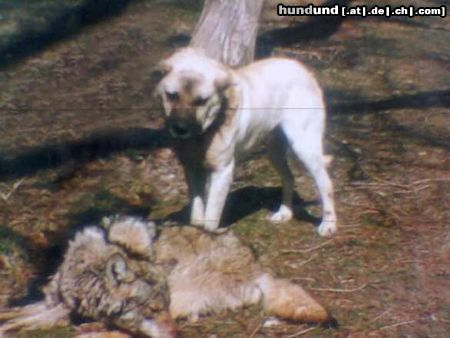kangal: (151, 48, 337, 235)
other_dog_breed: (0, 215, 339, 338)
